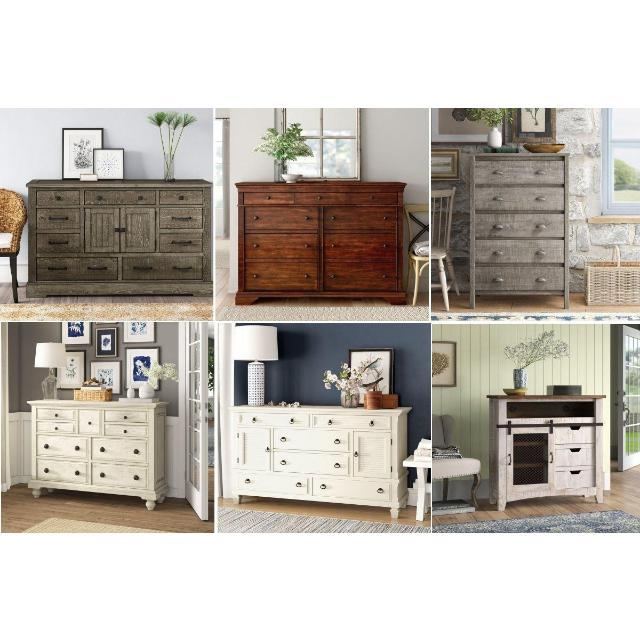dresser: (233, 406, 408, 525)
lamp: (228, 327, 283, 402)
